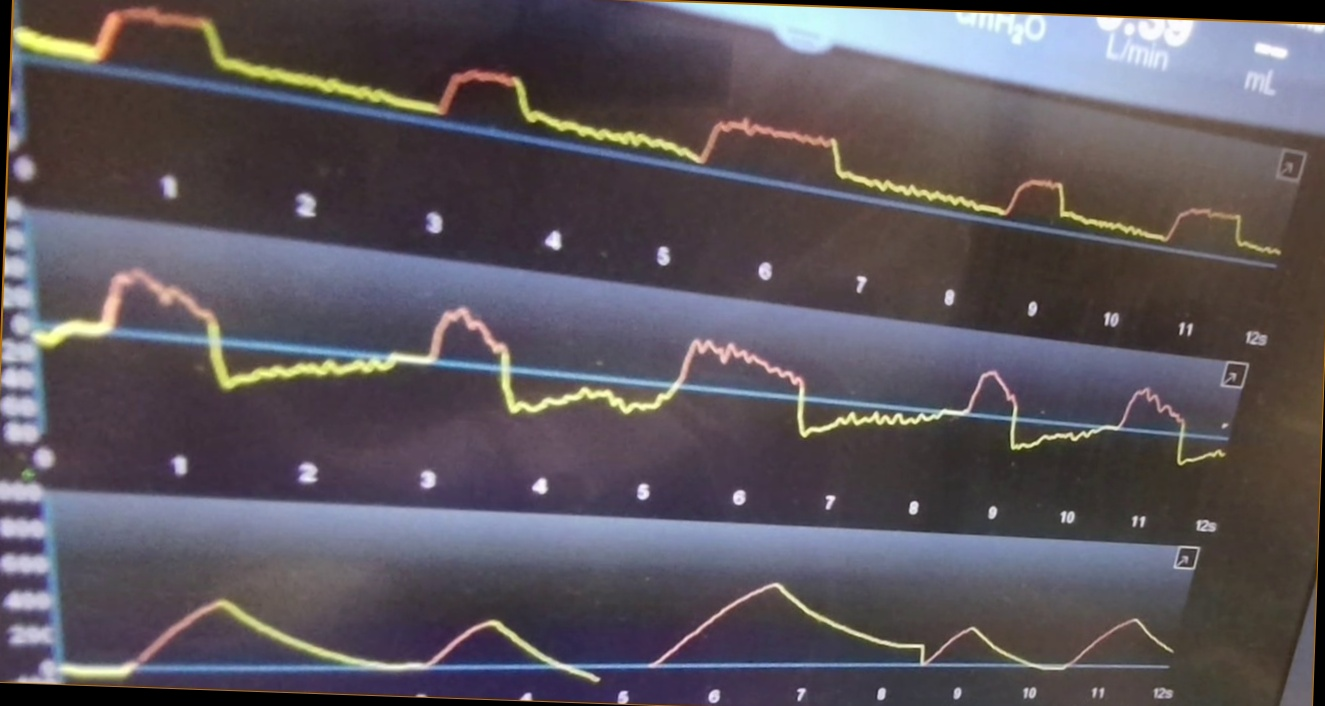Accumulation Flow: (40, 277, 1222, 468)
Volume: (65, 547, 1180, 689)
